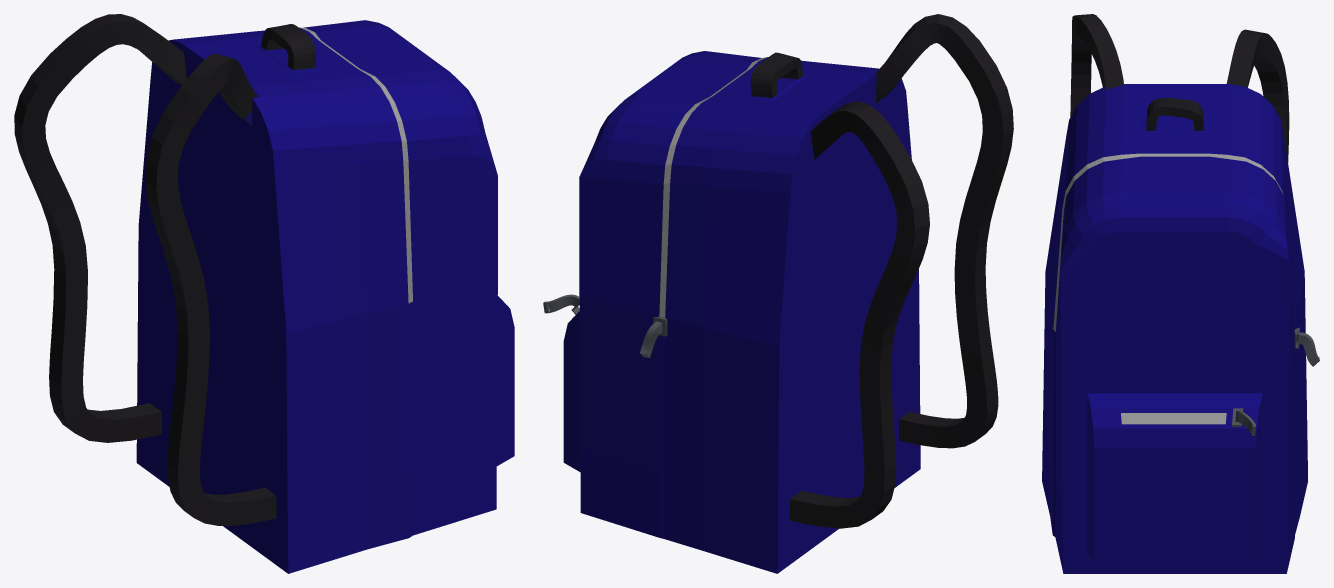
Rendered from MocgilaBlender.fbx.
The picture shows the model from 3 angles, left to right: view 1: azimuth 30°, elevation 25°; view 2: azimuth 150°, elevation 25°; view 3: azimuth 270°, elevation 25°; orthographic projection. The views are drawn at different scales.
Parts seen in each view (by area): view 1: Mochila; view 2: Mochila; view 3: Mochila.
Part boxes in pixels (<box>): Mochila: <box>14,14,514,573</box>; Mochila: <box>543,14,1013,573</box>; Mochila: <box>1042,14,1319,573</box>.
Bounding box in the file's own units: 377 × 440 × 249.
